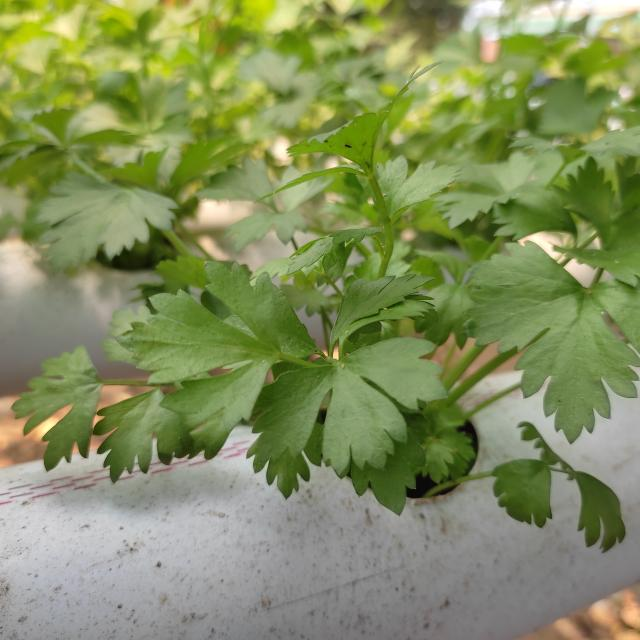Wet Waste: (100, 86, 624, 536)
